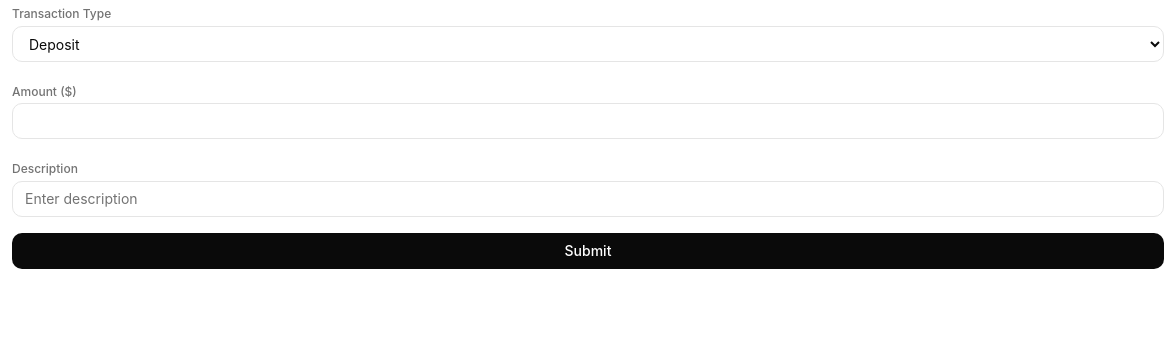
Test: TransactionForm › shows transfer target field when transfer is selected
Select "Transfer" in the dropdown labelled "Transaction Type" at (588, 44), box [12,26,1164,62]
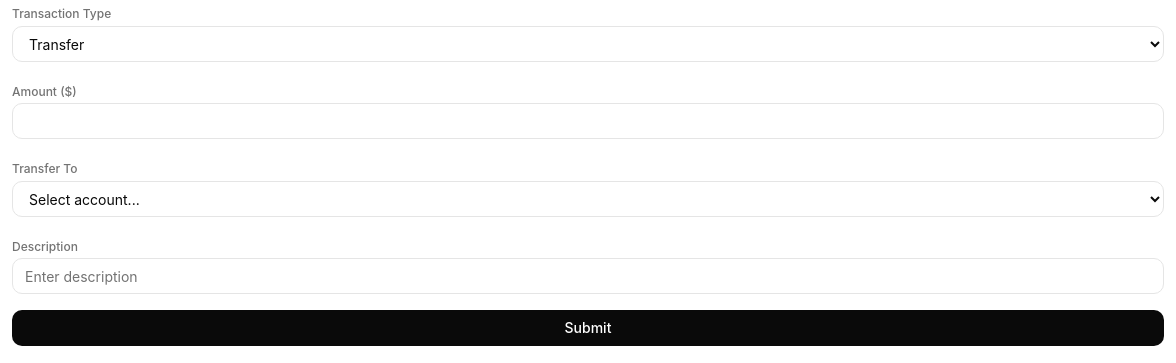
Check: the dropdown labelled "Transfer To" is shown, box [12,181,1164,217]
